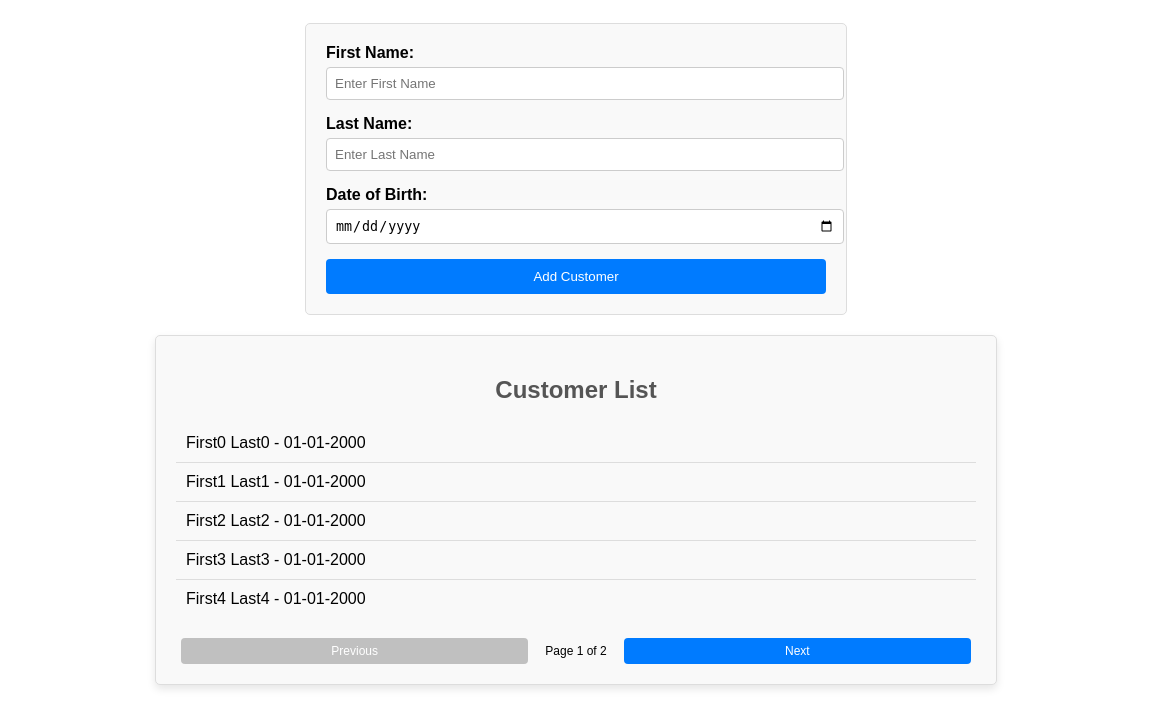
App Component › renders the customer list and handles pagination
(page scrolled)
Check: the list item "First0 Last0 - 01-01-2000" is shown, box x1=176 y1=424 x2=976 y2=463
Check: the button "Previous" is shown, box x1=181 y1=638 x2=528 y2=664
What coordinates should you click on to do the following:
click the button "Next"
I would click on:
 (797, 651)
Its box is x1=624 y1=638 x2=971 y2=664.
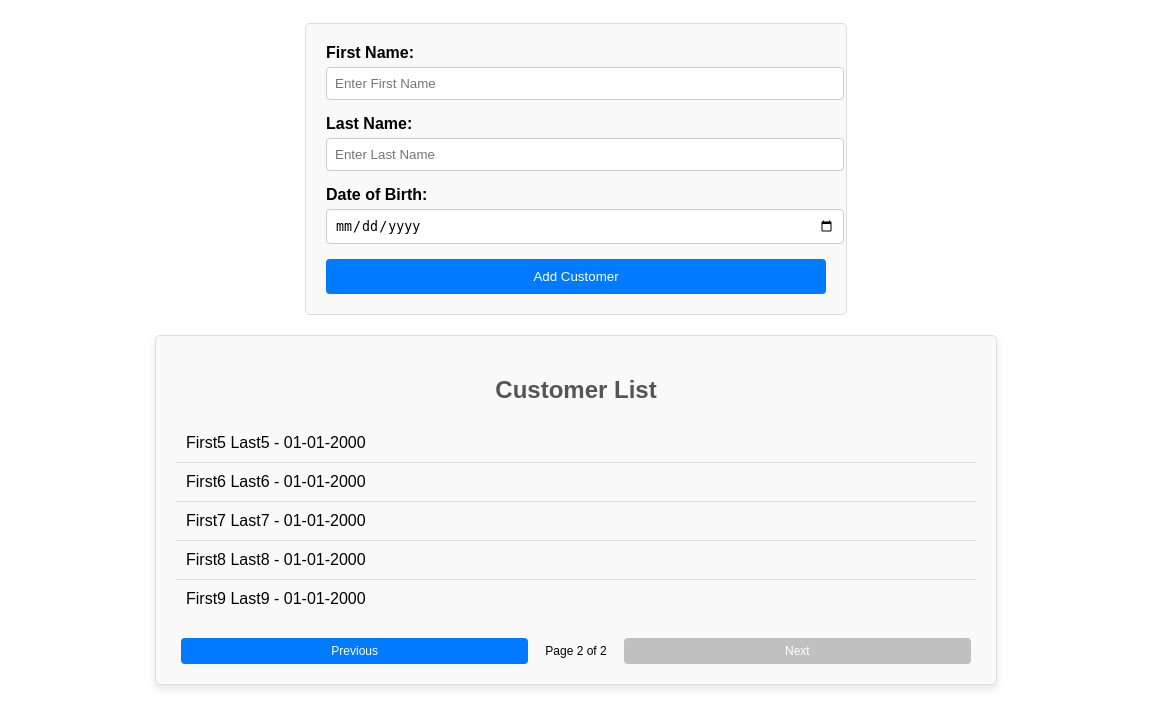
Check: the list item "First0 Last0 - 01-01-2000" is gone
Check: the list item "First5 Last5 - 01-01-2000" is shown, box x1=176 y1=424 x2=976 y2=463
